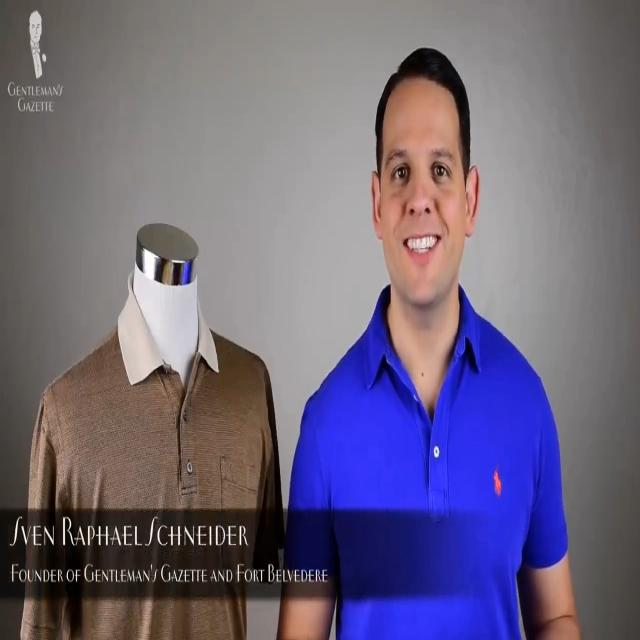Shirt: (285, 278, 569, 640), (19, 266, 285, 640)
